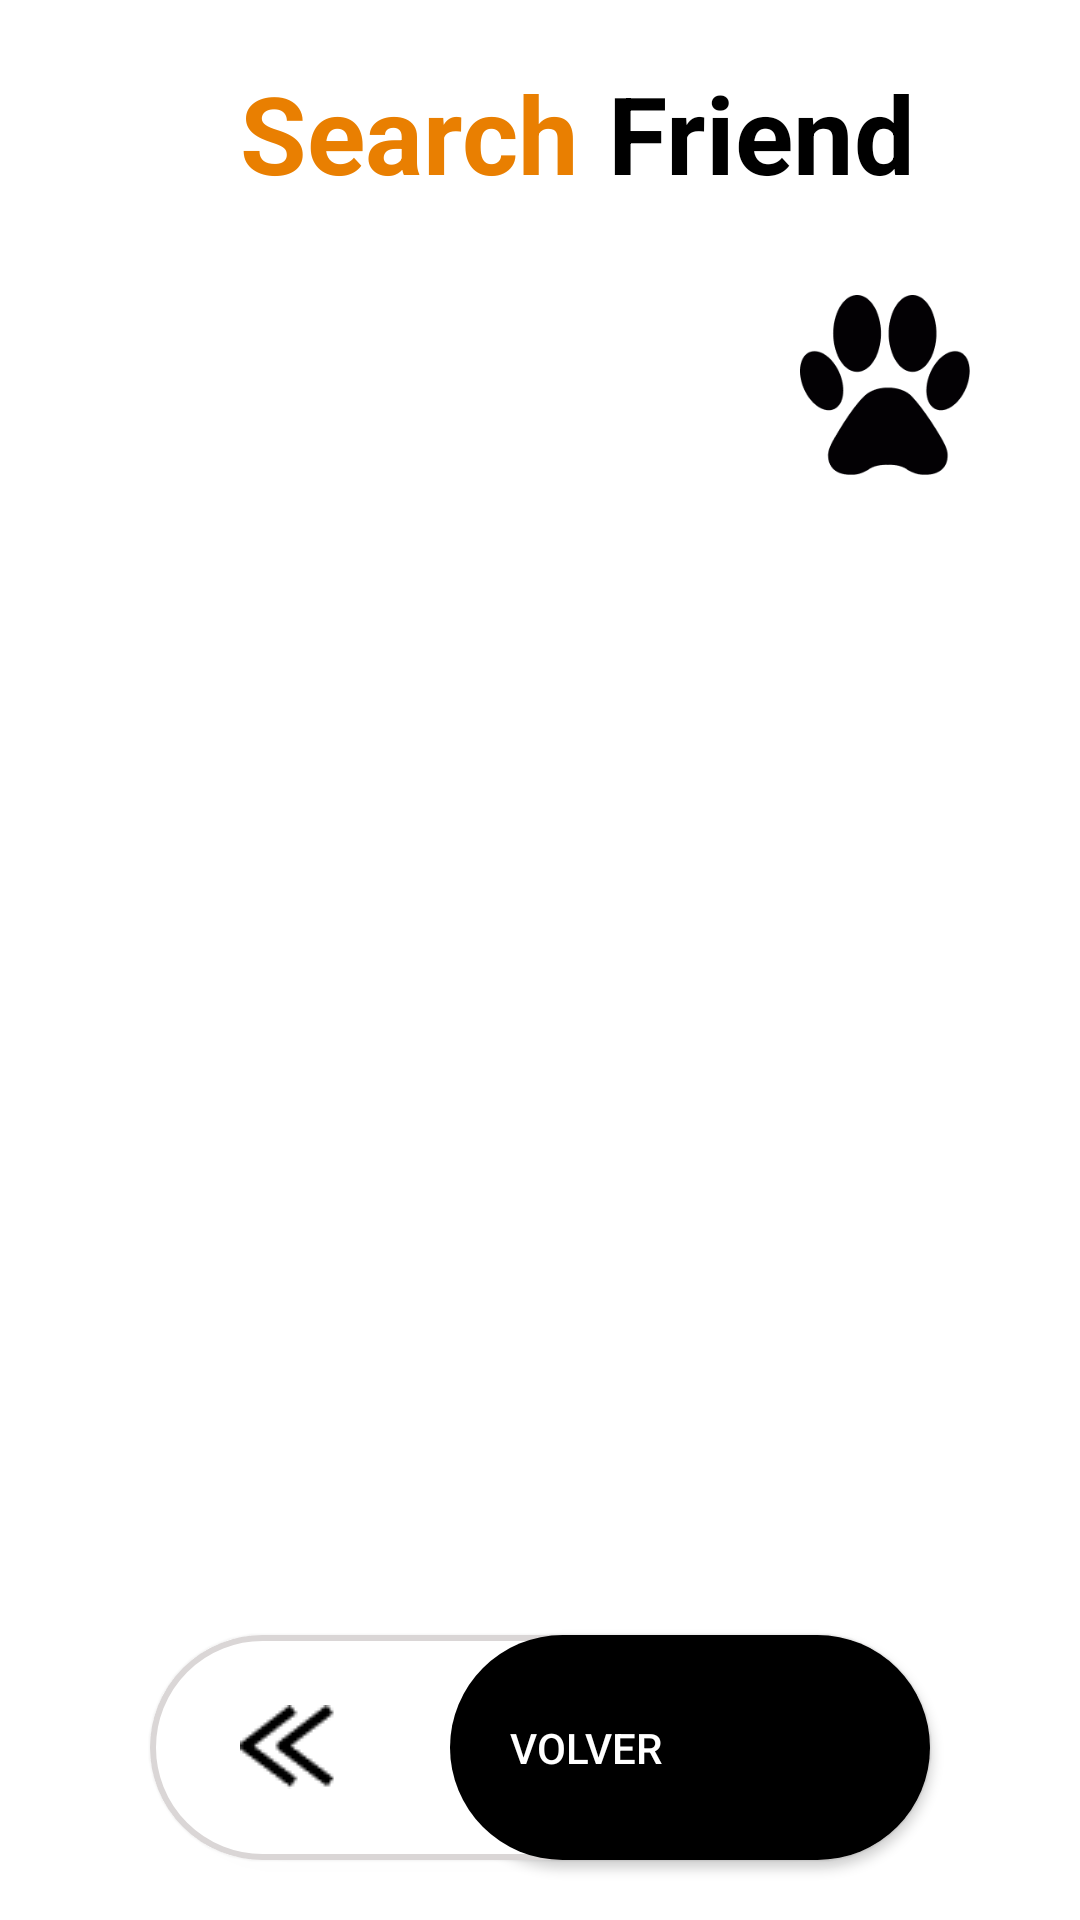

Screen size 1080 × 1920. Icon name, then its box in pixels as (x1, y1, x2, y2):
paw: (800, 295, 970, 475)
